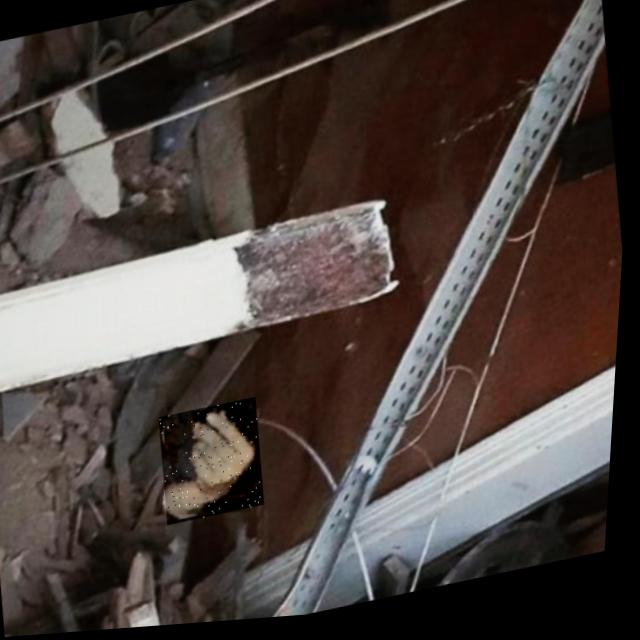Person in Rubble: (158, 401, 275, 529)
